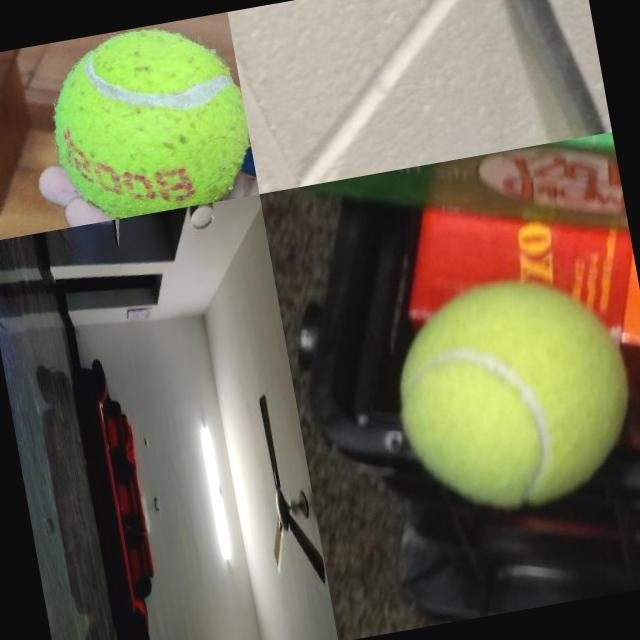Tennis Ball: (378, 261, 640, 526), (39, 12, 259, 226), (144, 437, 148, 447)
